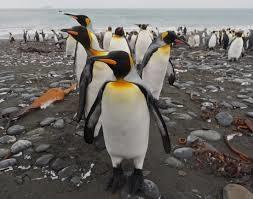king: (84, 44, 176, 189), (138, 25, 192, 103), (47, 16, 105, 60)
